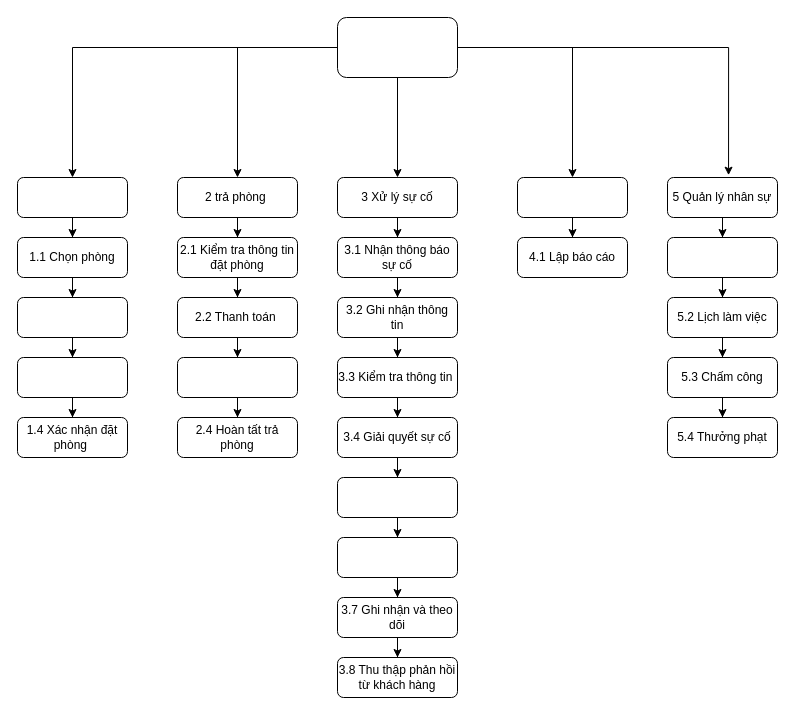
Image size: 795x715. Some labels were removed from this diagram. The box of each missing label's shape, as (x1, y1, x2, y2) in pixels:
1 Đặt Phòng: (16, 176, 128, 218)
1.2 Kiểm tra hệ thống phòng: (16, 296, 128, 338)
1.3 Ghi lại thông tin đặt phòng: (16, 356, 128, 398)
2.3 Kiểm tra phòng: (176, 356, 298, 398)
3.5 Xử lý sự cố: (336, 476, 458, 518)
3.6 Cung cấp giải pháp và thông tin cho khách hàng: (336, 536, 458, 578)
4 Lập báo cáo: (516, 176, 628, 218)
5.1 Thông tin nhân viên: (666, 236, 778, 278)
Quản lý đăng ký phòng khách sạn: (336, 16, 458, 78)
